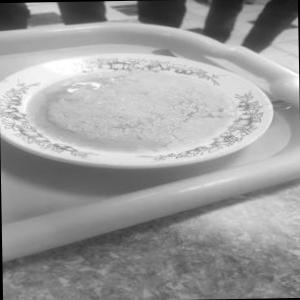porridge: (2, 50, 248, 172)
